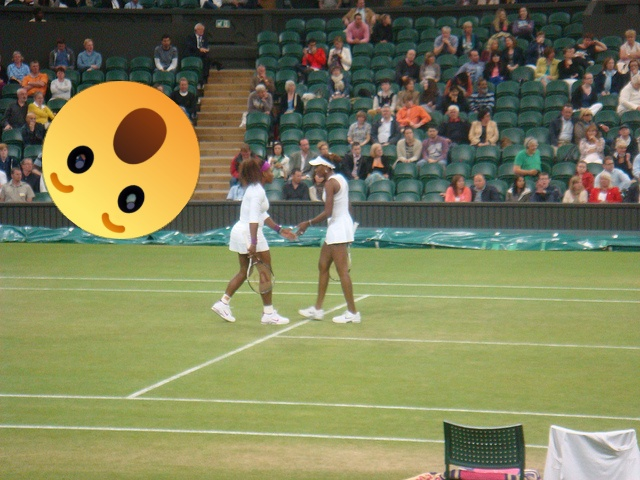wow: (42, 81, 200, 239)
